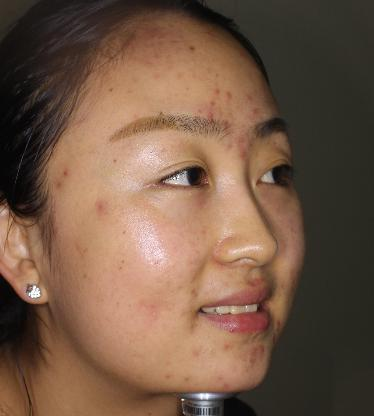Blackheads: (185, 39, 200, 55), (103, 84, 118, 96)
Papules: (248, 104, 263, 118), (224, 89, 234, 101), (206, 109, 217, 119), (211, 87, 221, 96)
acne scar: (95, 198, 113, 214), (180, 370, 194, 386)
pustules: (225, 327, 237, 335)
